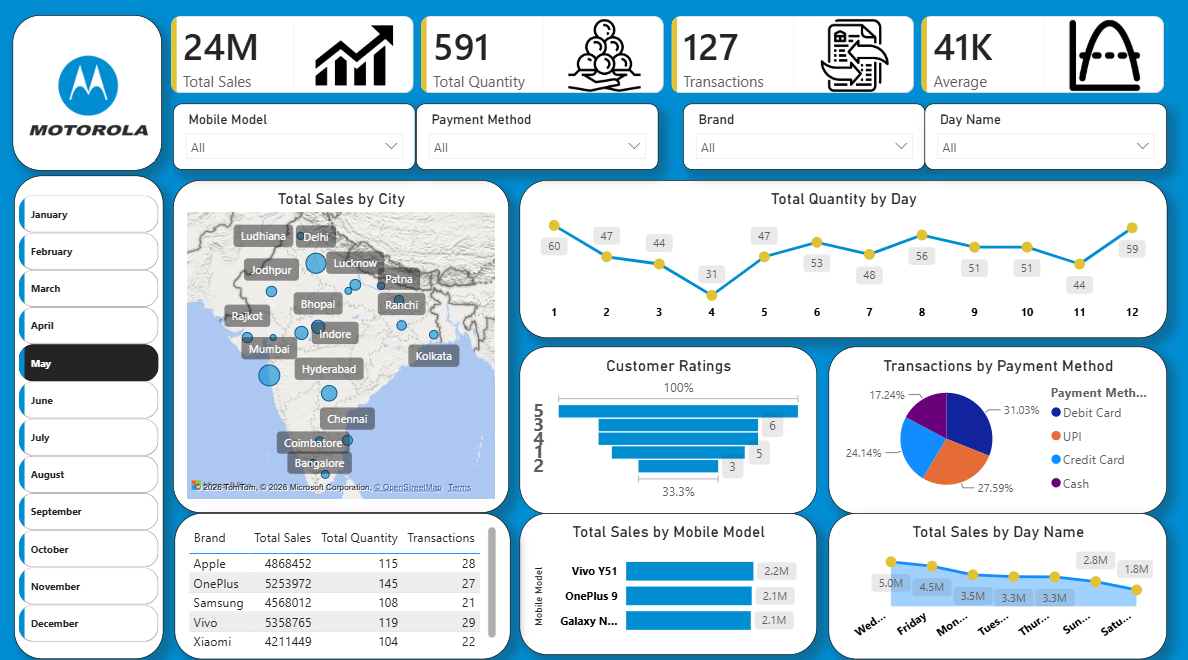

Layout of this report page (visuals, bound fields, positions):
{"tool":"powerbi","page":{"name":"Page 1","canvas":[1280,720],"ordinal":0},"visuals":[{"type":"shape","box":[14.3,15.9,160.7,167],"z":0},{"type":"image","box":[25.4,15.9,141.6,173.4],"z":1000},{"type":"shape","box":[15.9,189.3,160.7,520.1],"z":2000},{"type":"advancedSlicerVisual","fields":{"Values":["Sales_Data.Date.Variation.Date Hierarchy.Month"]},"box":[15.9,205.2,160.7,496.3],"z":3000},{"type":"cardVisual","fields":{"Data":["Sales_Data.Total Sales","Sales_Data.Total Quantity","Sales_Data.Transactions","Sales_Data.Average"]},"box":[167,0,1102.3,117.7],"z":4000},{"type":"map","fields":{"Category":["Sales_Data.City"],"Size":["Sales_Data.Total Sales"]},"box":[187.7,194.1,361.1,357.9],"z":5000},{"type":"lineChart","fields":{"Category":["Sales_Data.Date.Variation.Date Hierarchy.Month","Sales_Data.Date.Variation.Date Hierarchy.Day"],"Y":["Sales_Data.Total Quantity"]},"box":[559.9,194.1,696.7,170.2],"z":6000},{"type":"barChart","fields":{"Category":["Sales_Data.Mobile Model"],"Y":["Sales_Data.Total Sales"]},"box":[559.9,551.9,319.7,152.7],"z":7000},{"type":"pieChart","fields":{"Category":["Sales_Data.Payment Method"],"Y":["Sales_Data.Transactions"]},"box":[892.3,372.2,364.2,179.7],"z":8000},{"type":"funnel","title":"Customer Ratings","fields":{"Category":["Sales_Data.Customer Ratings"],"Y":["CountNonNull(Sales_Data.Customer Ratings)"]},"box":[559.9,372.2,319.7,179.7],"z":9000},{"type":"areaChart","fields":{"Y":["Sales_Data.Total Sales"],"Category":["Sales_Data.Day Name"]},"box":[892.3,551.9,364.2,157.5],"z":10000},{"type":"tableEx","fields":{"Values":["Sales_Data.Brand","Sales_Data.Total Sales","Sales_Data.Total Quantity","Sales_Data.Transactions"]},"box":[188,552,361,157],"z":10001},{"type":"slicer","fields":{"Values":["Sales_Data.Mobile Model"]},"box":[187.7,111.3,260.9,71.6],"z":10002},{"type":"slicer","fields":{"Values":["Sales_Data.Payment Method"]},"box":[448.6,111.3,260.9,71.6],"z":10003},{"type":"slicer","fields":{"Values":["Sales_Data.Brand"]},"box":[734.9,111.3,260.9,71.6],"z":10004},{"type":"slicer","fields":{"Values":["Sales_Data.Day Name"]},"box":[995.7,111.3,260.9,71.6],"z":10005}]}

Visuals, with their boxes in screenshot pixels (x1, y1, x2, y2), scaled from the page's 1280x720 canvas onto the 1188x660 screenshot:
shape: x1=13 y1=15 x2=162 y2=168
image: x1=24 y1=15 x2=155 y2=174
shape: x1=15 y1=174 x2=164 y2=650
advancedSlicerVisual - Sales_Data.Date.Variation.Date Hierarchy.Month: x1=15 y1=188 x2=164 y2=643
cardVisual - Sales_Data.Total Sales x Sales_Data.Total Quantity: x1=155 y1=0 x2=1178 y2=108
map - Sales_Data.City x Sales_Data.Total Sales: x1=174 y1=178 x2=509 y2=506
lineChart - Sales_Data.Date.Variation.Date Hierarchy.Month x Sales_Data.Date.Variation.Date Hierarchy.Day: x1=520 y1=178 x2=1166 y2=334
barChart - Sales_Data.Mobile Model x Sales_Data.Total Sales: x1=520 y1=506 x2=816 y2=646
pieChart - Sales_Data.Payment Method x Sales_Data.Transactions: x1=828 y1=341 x2=1166 y2=506
"Customer Ratings" funnel: x1=520 y1=341 x2=816 y2=506
areaChart - Sales_Data.Total Sales x Sales_Data.Day Name: x1=828 y1=506 x2=1166 y2=650
tableEx - Sales_Data.Brand x Sales_Data.Total Sales: x1=174 y1=506 x2=510 y2=650
slicer - Sales_Data.Mobile Model: x1=174 y1=102 x2=416 y2=168
slicer - Sales_Data.Payment Method: x1=416 y1=102 x2=659 y2=168
slicer - Sales_Data.Brand: x1=682 y1=102 x2=924 y2=168
slicer - Sales_Data.Day Name: x1=924 y1=102 x2=1166 y2=168
